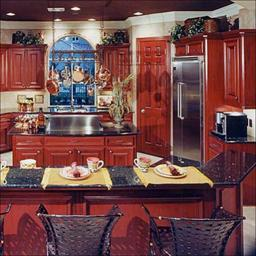Electrodomestico: (174, 58, 202, 158)
